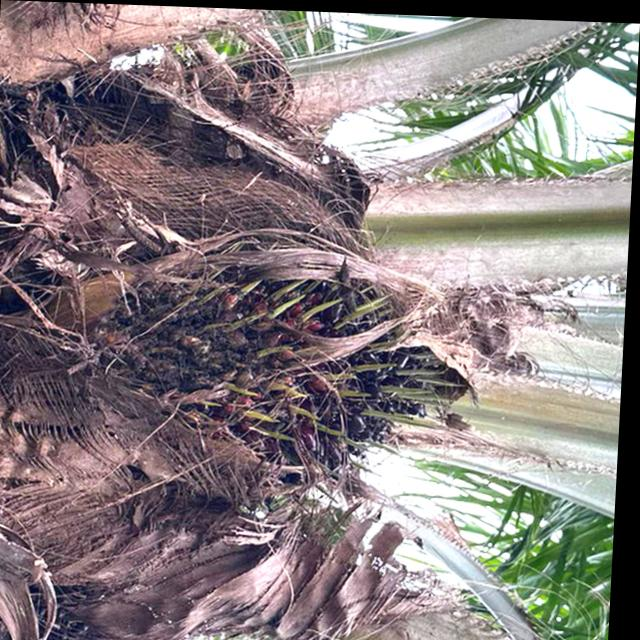unripe: (73, 226, 478, 511)
